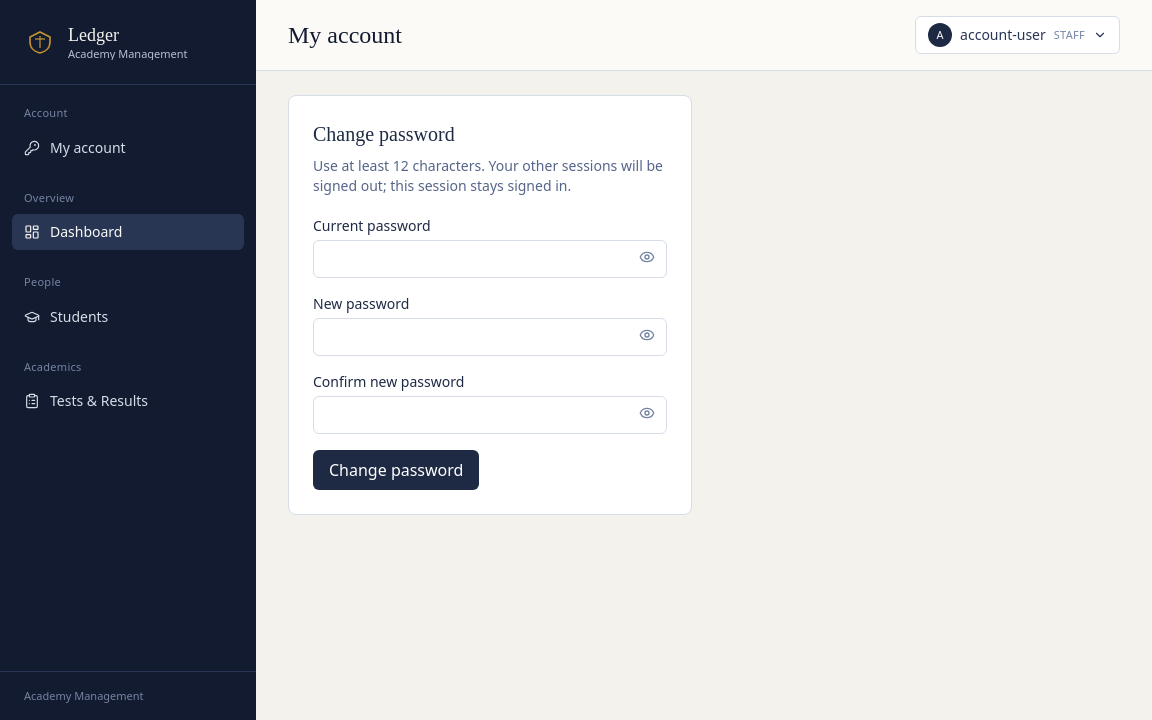
Test: server rejection is visible and allows correction
In the password field labelled "Current password": (490, 259) 313,240 -> 667,278, type "OldPassword123!"
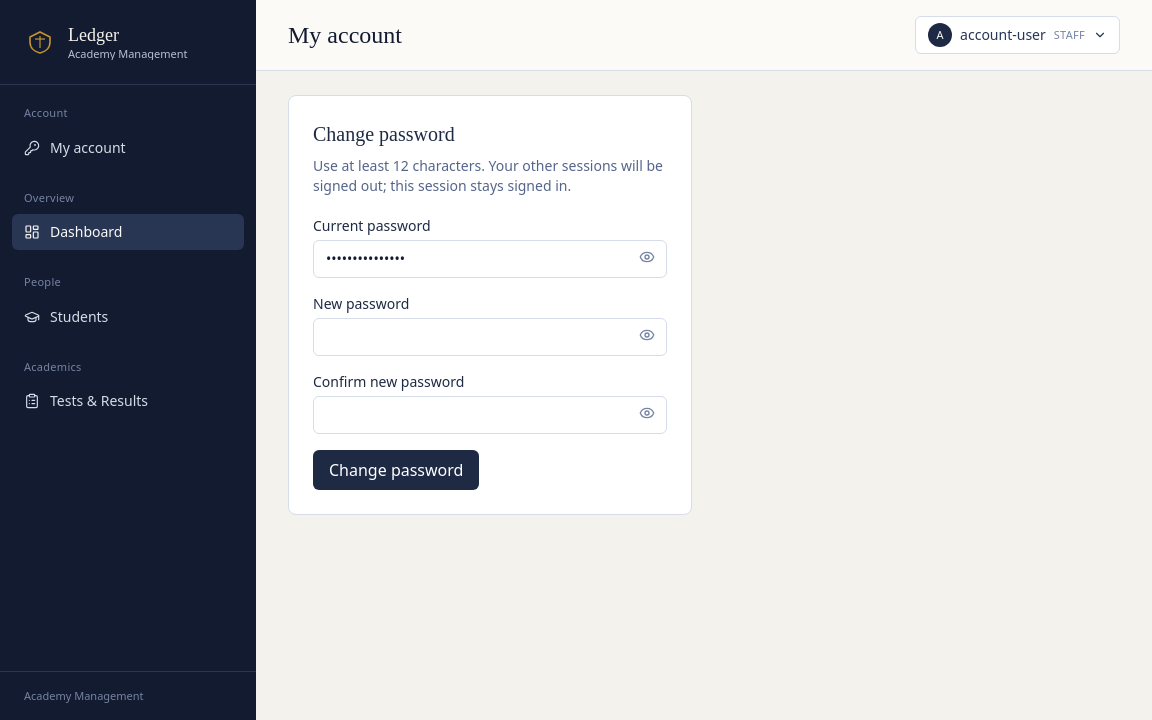
In the password field labelled "New password": (490, 337) 313,318 -> 667,356, type "NewPassword456!"
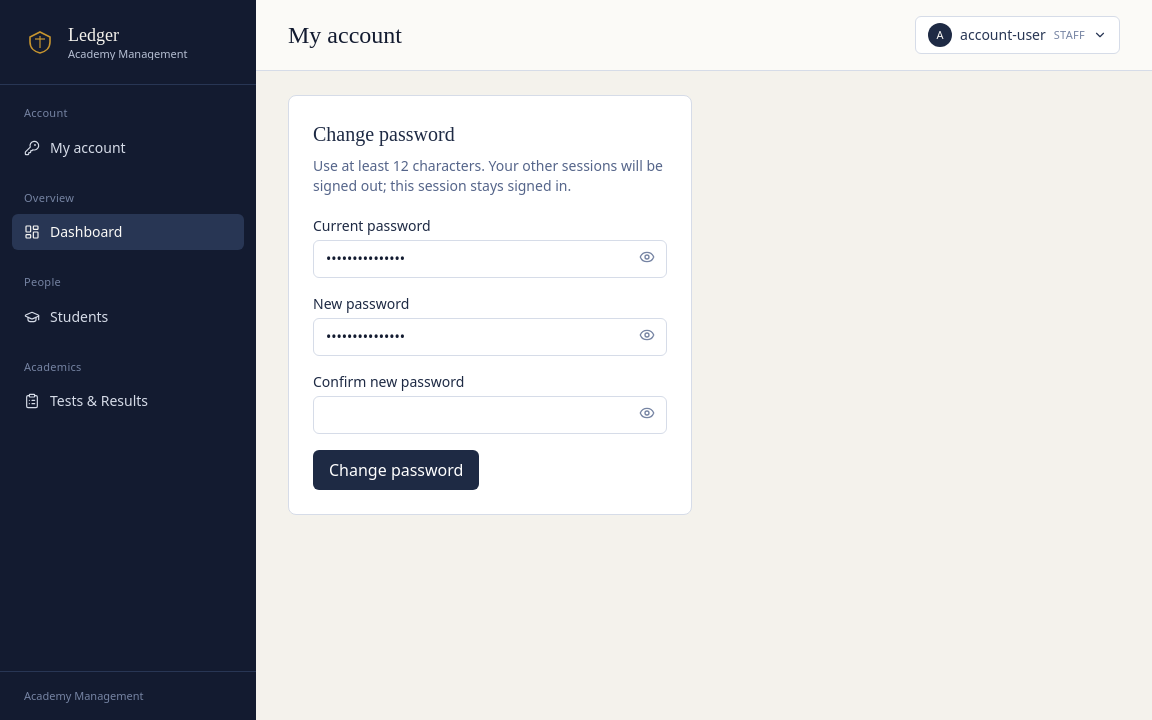
In the password field labelled "Confirm new password": (490, 415) 313,396 -> 667,434, type "NewPassword456!"
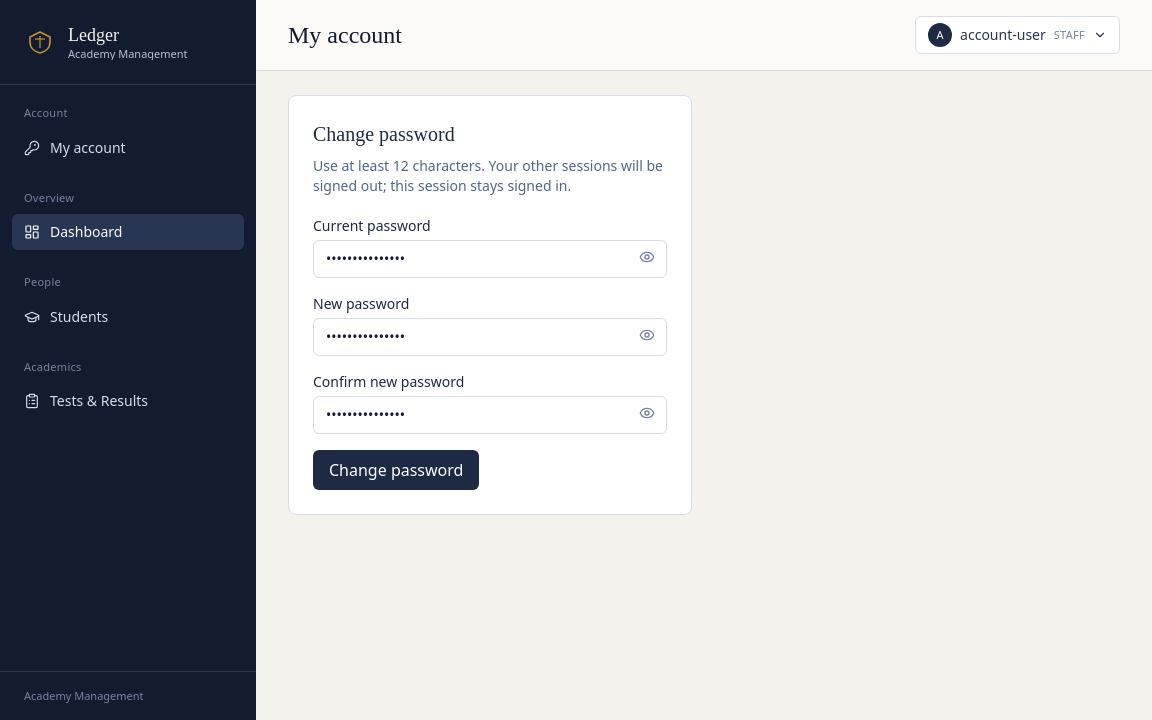
Click the button "Change password": (396, 470) 313,450 -> 479,490
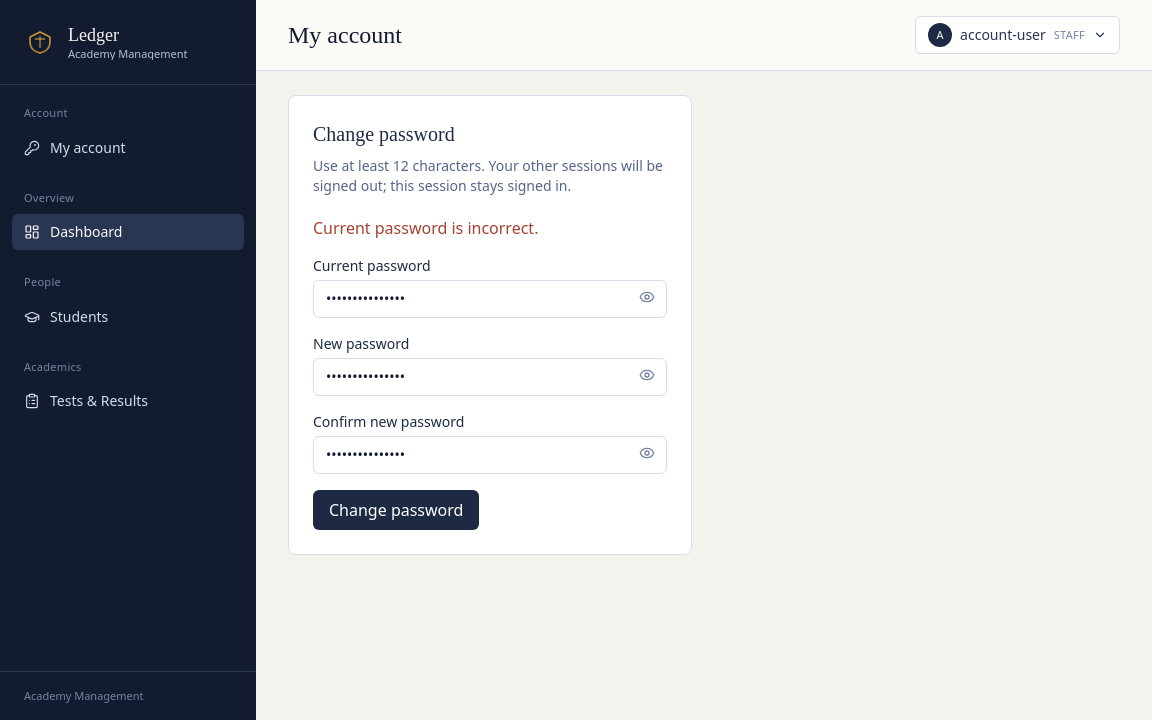
Expected: the button "Change password" is enabled, 313,490 -> 479,530
Expected: the message shows "Current password is incorrect", 313,217 -> 538,239
